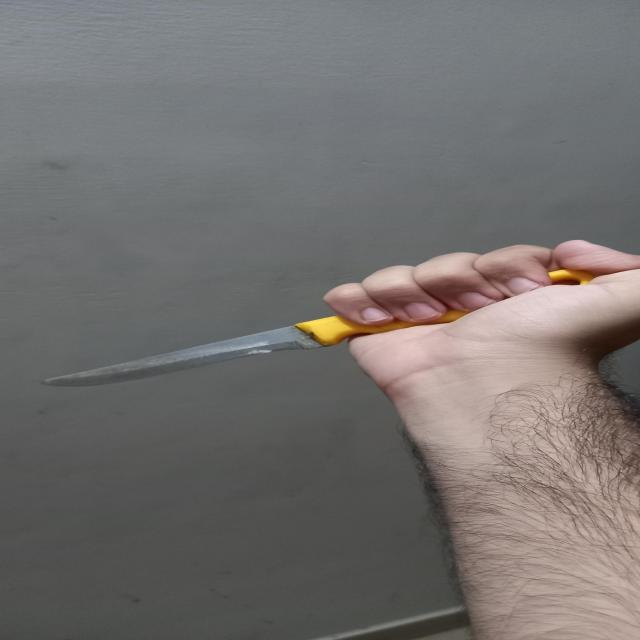Knife: (44, 269, 600, 386)
Person: (326, 240, 640, 638)
